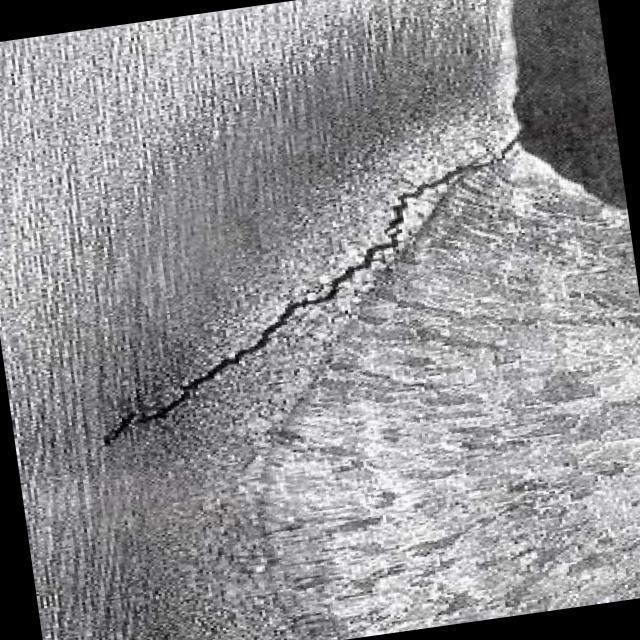defect: (88, 136, 523, 458)
